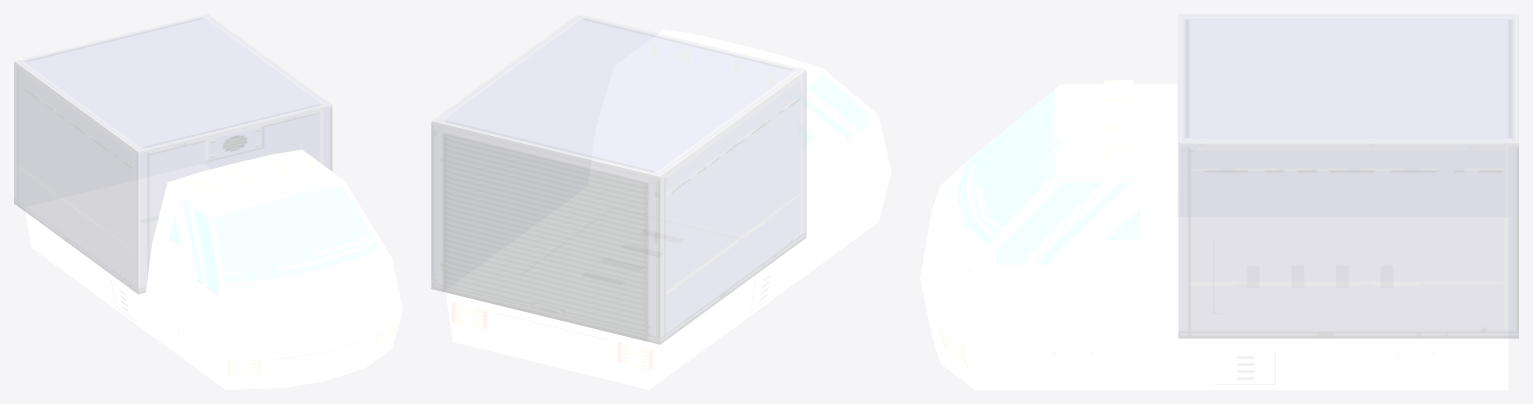
The model's file is hover-servicio.glb.
3 renders of one model, left to right at view 1: azimuth 30°, elevation 25°; view 2: azimuth 150°, elevation 25°; view 3: azimuth 270°, elevation 25°, orthographic. The views are drawn at different scales.
Parts seen in each view (by area): view 1: hover-servicio; view 2: hover-servicio; view 3: hover-servicio.
Part boxes in pixels (x1,y1,x2,y2): hover-servicio: (14, 14, 402, 389); hover-servicio: (431, 14, 891, 389); hover-servicio: (920, 14, 1518, 389).
Bounding box in the file's own units: 1.45 × 1.33 × 2.82.
2 materials, 2 textured.
